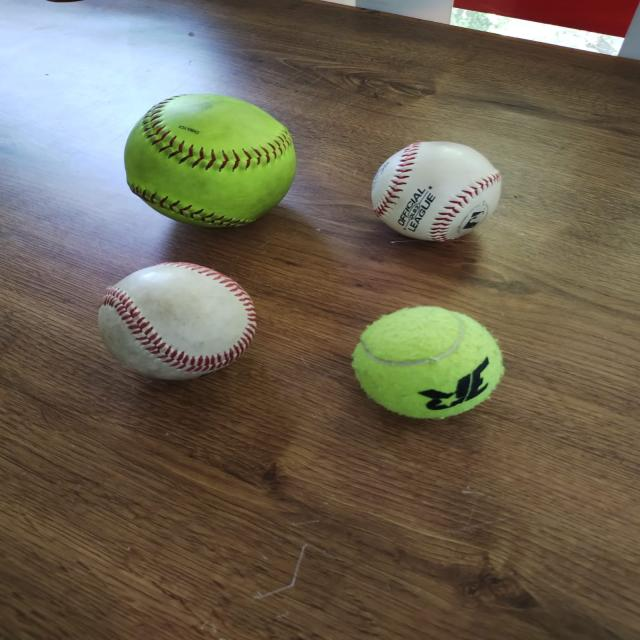beisbol ball: (97, 263, 259, 378), (362, 137, 505, 246)
softball ball: (121, 94, 298, 228)
tenis ball: (350, 305, 504, 418)
